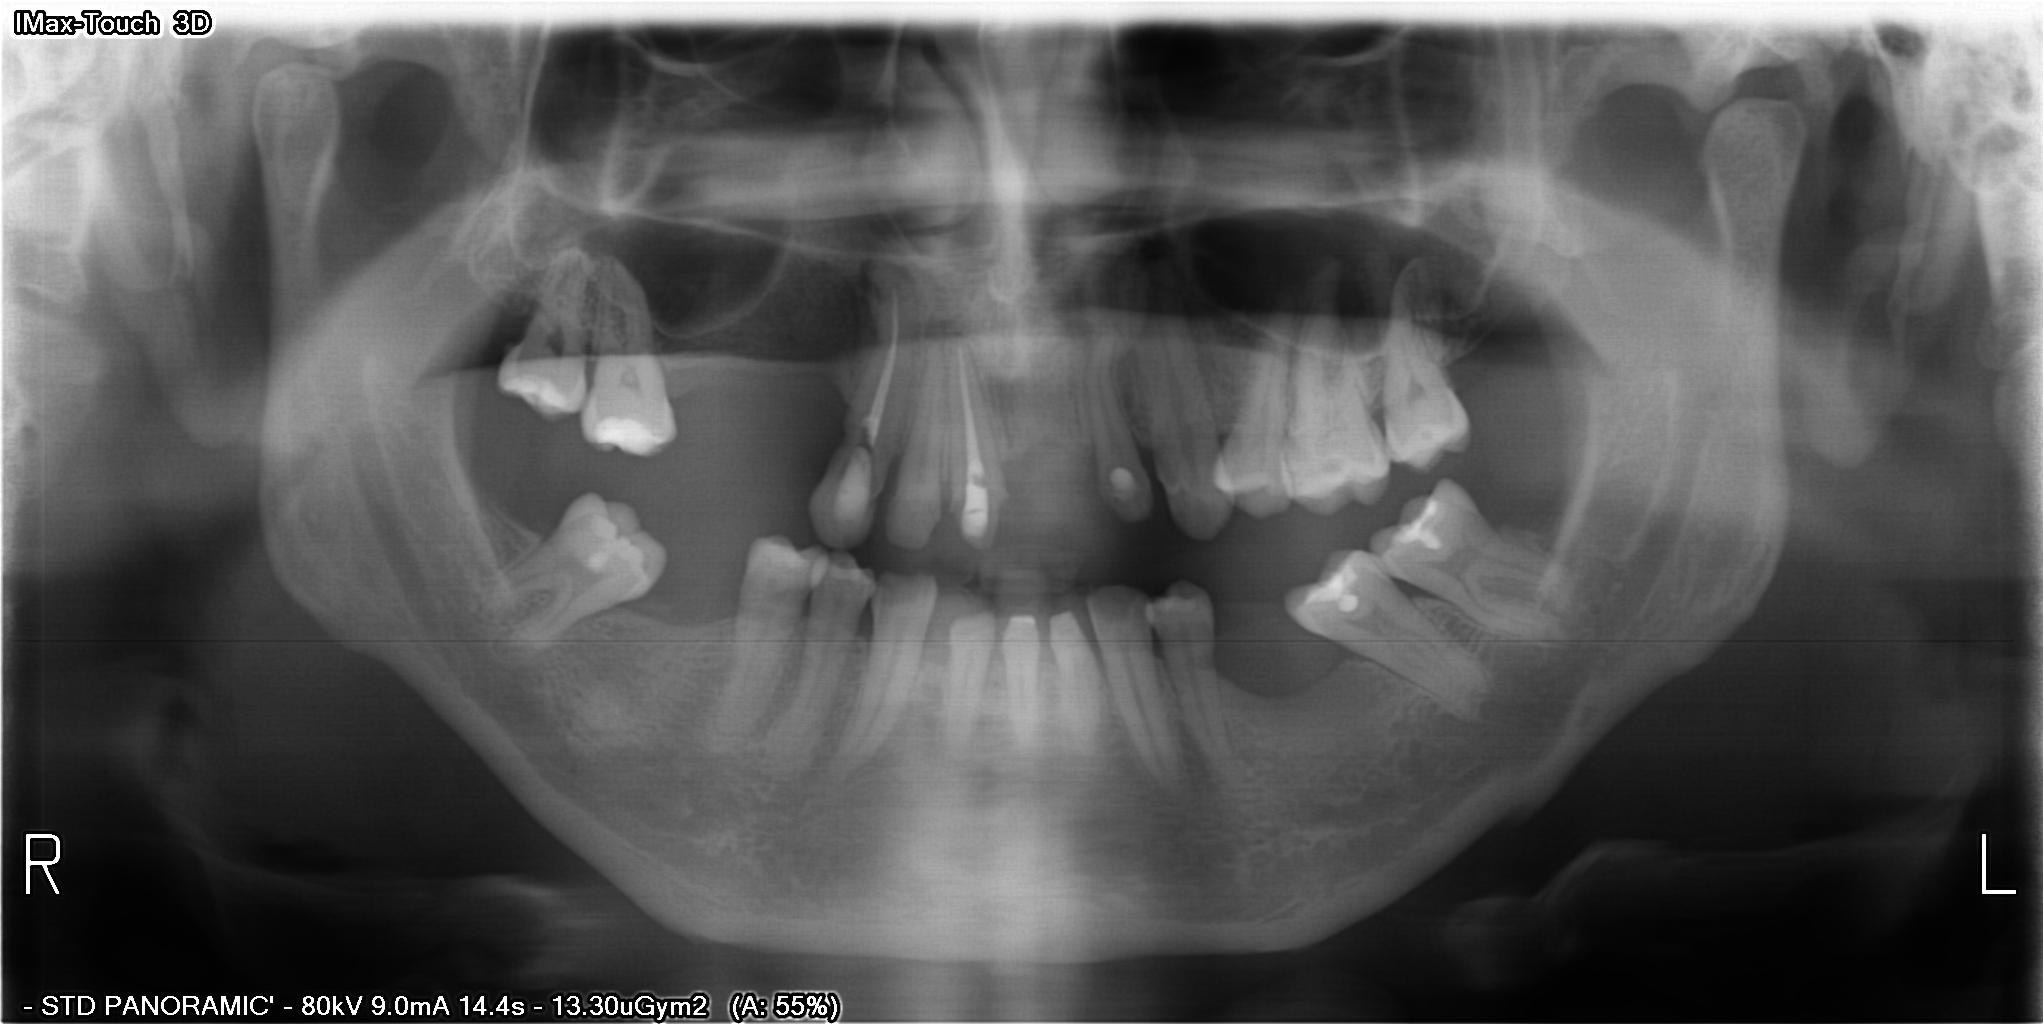Çürük: (1287, 571, 1371, 623), (1384, 500, 1450, 562), (581, 414, 667, 461), (834, 451, 871, 532), (954, 477, 993, 551), (1102, 465, 1144, 499)
